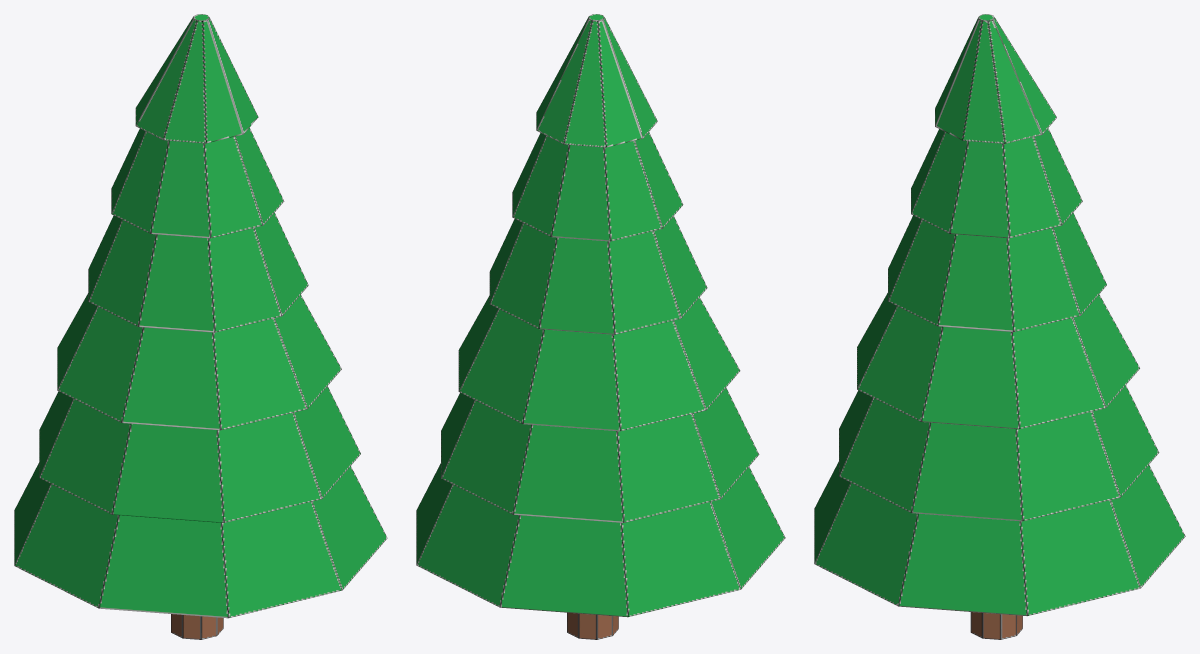
File: tree2.obj
The picture shows the model from 3 angles, left to right: view 1: azimuth 30°, elevation 25°; view 2: azimuth 150°, elevation 25°; view 3: azimuth 270°, elevation 25°; orthographic projection.
Visible parts, largest first — view 1: Tree_3_Cylinder.007; view 2: Tree_3_Cylinder.007; view 3: Tree_3_Cylinder.007.
Part boxes in pixels (left/top/right/bottom): Tree_3_Cylinder.007: left=14, top=14, right=387, bottom=639; Tree_3_Cylinder.007: left=416, top=14, right=785, bottom=639; Tree_3_Cylinder.007: left=814, top=14, right=1185, bottom=639.
Bounding box in the file's own units: 4.02 × 7.18 × 3.96.
1 material, 1 textured.
